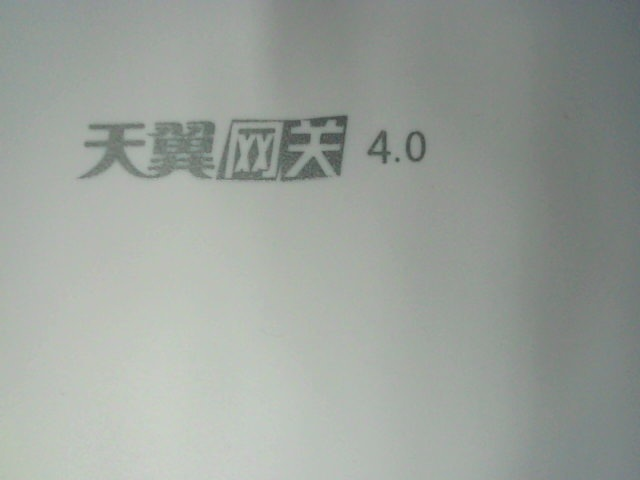BM_TianYiWangGuan: (72, 111, 432, 185)
